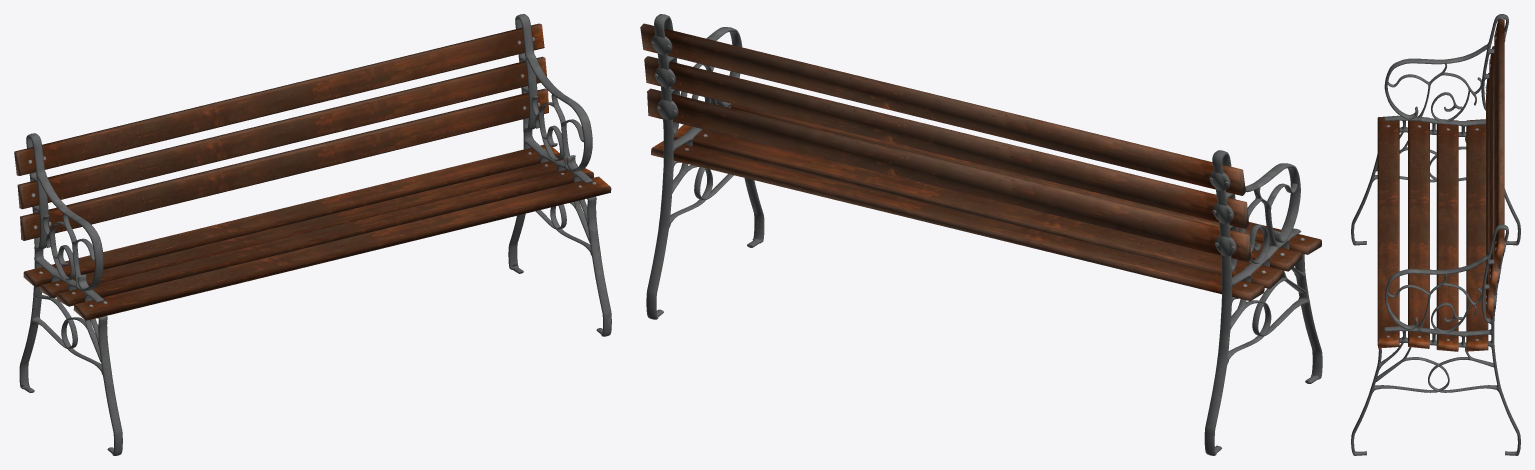
The model's file is bench.glb.
3 renders of one model, left to right at view 1: azimuth 30°, elevation 25°; view 2: azimuth 150°, elevation 25°; view 3: azimuth 270°, elevation 25°, orthographic. The views are drawn at different scales.
Bounding box in the file's own units: 1.8 × 0.8531 × 0.5718.
Materials: 1 (1 with a texture image).
